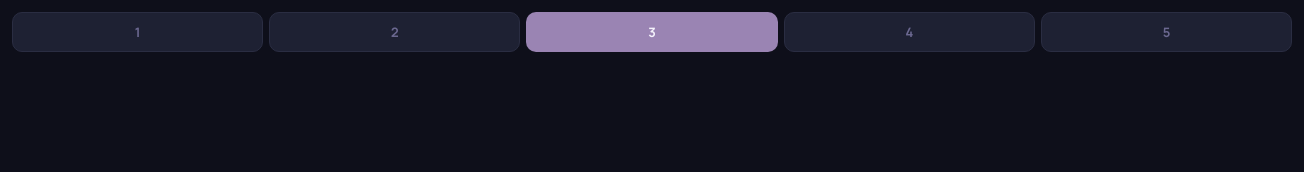
Test case: arrow keys move between scores
Click the radio button labelled "3" at (652, 32), box [526,12,778,52]
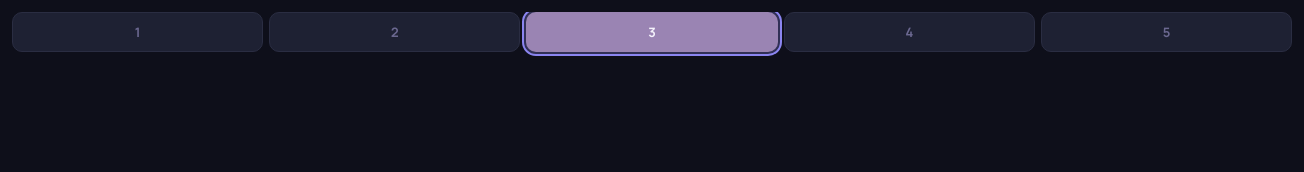
Press Arrowright
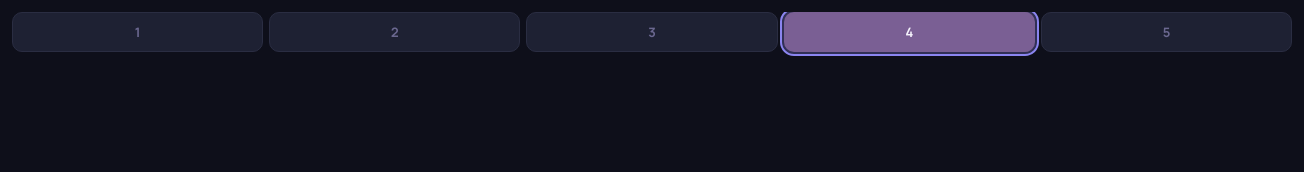
Expected: the radio button labelled "4" is checked, [784,12,1035,52]
